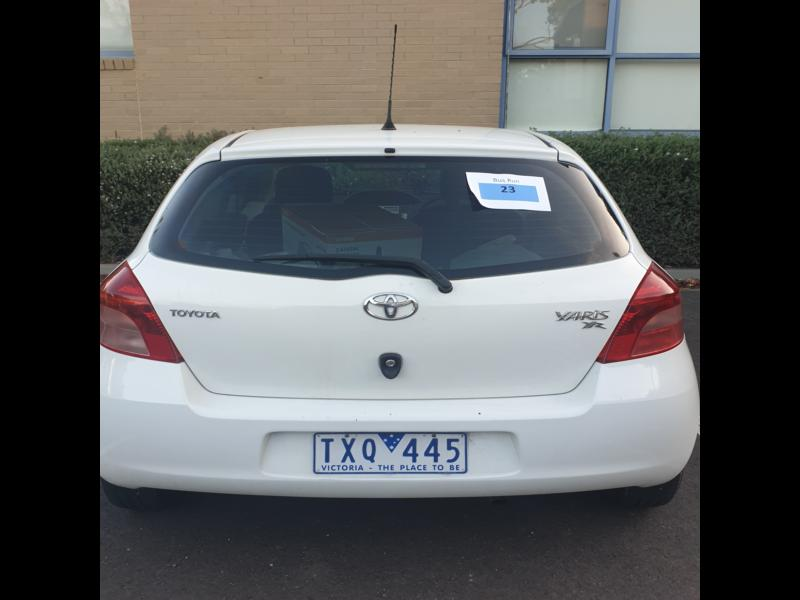BusRun: (481, 183, 541, 199)
PlateNo: (307, 426, 468, 474)
